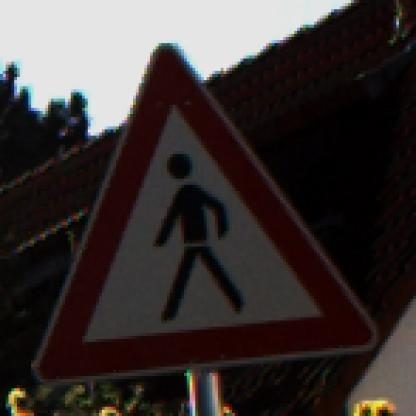crosswalk: (36, 31, 380, 389)
